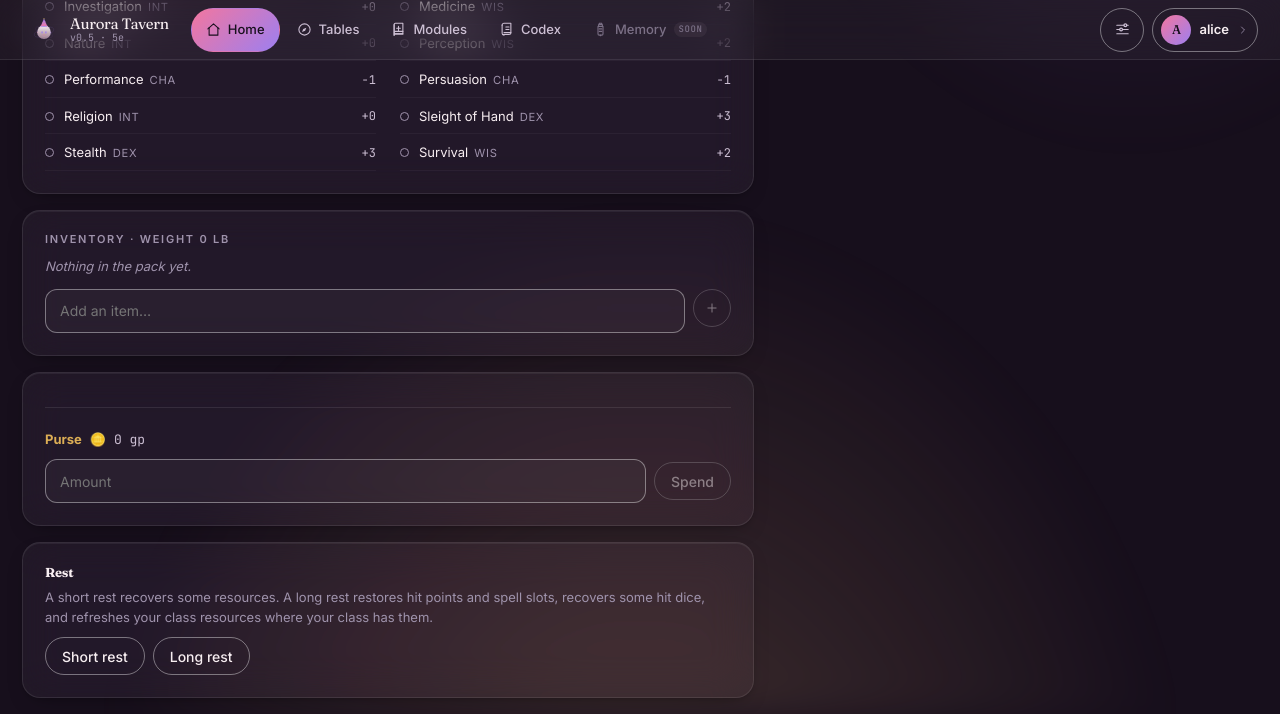
TAV-REST-UI — the cross-writer race the generation guard must actually cover › a slow rest reconcile cannot clobber a newer write from ANOTHER panel
The width and height of the screenshot is (1280, 714).
(page scrolled)
Click the button "Short rest" at (95,656), box [45,637,145,675]
(page scrolled)
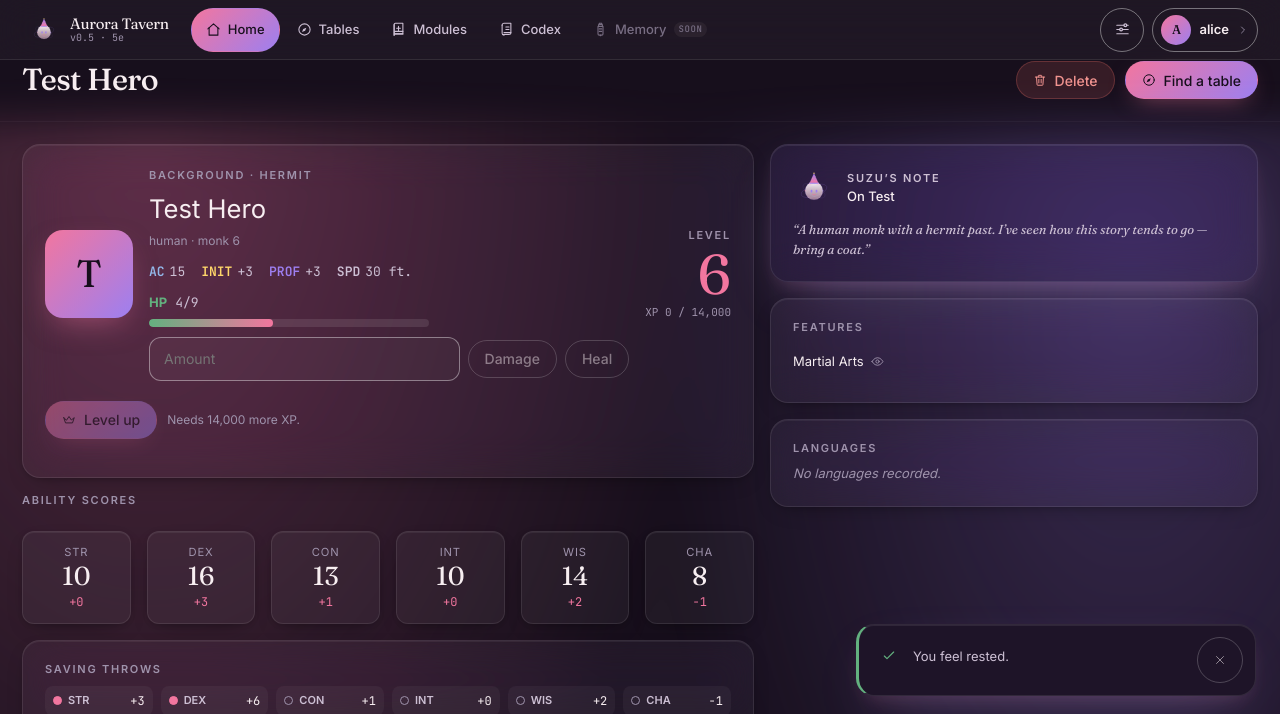
Type "5" into the number field named "HP amount" at (304,359), box [149,337,460,381]
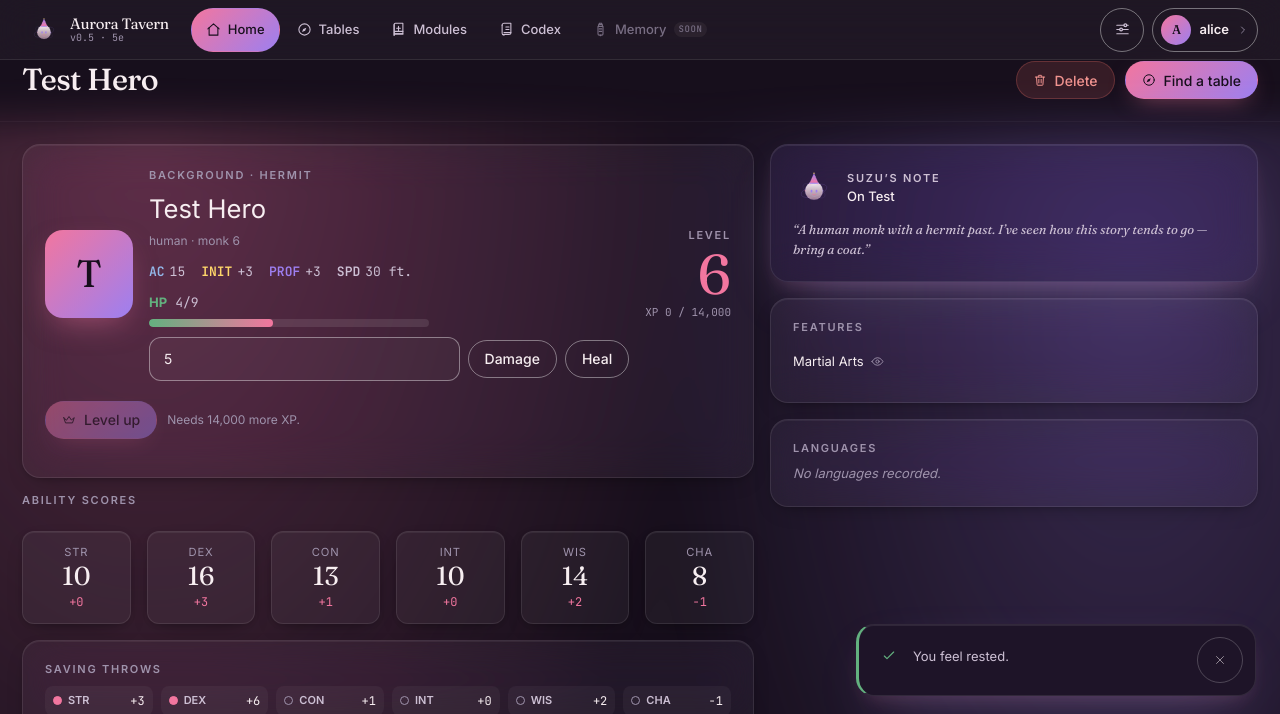
Click the button with aria-label "Apply healing" at (597,359), box [565,340,629,378]
(page scrolled)
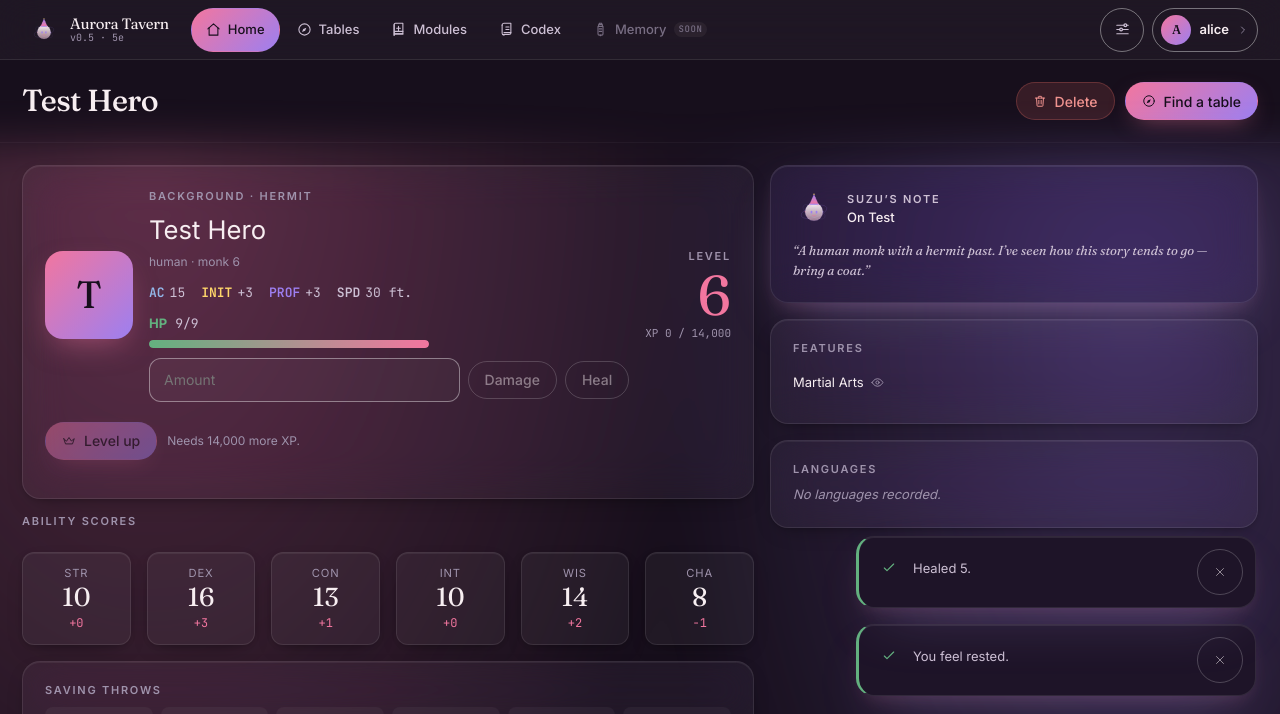
Now the element named "hit points 9 of 9" is shown, box [149,340,429,348]
